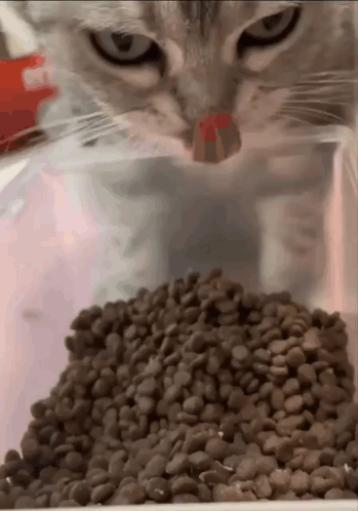cat_eating: (0, 0, 358, 456)
